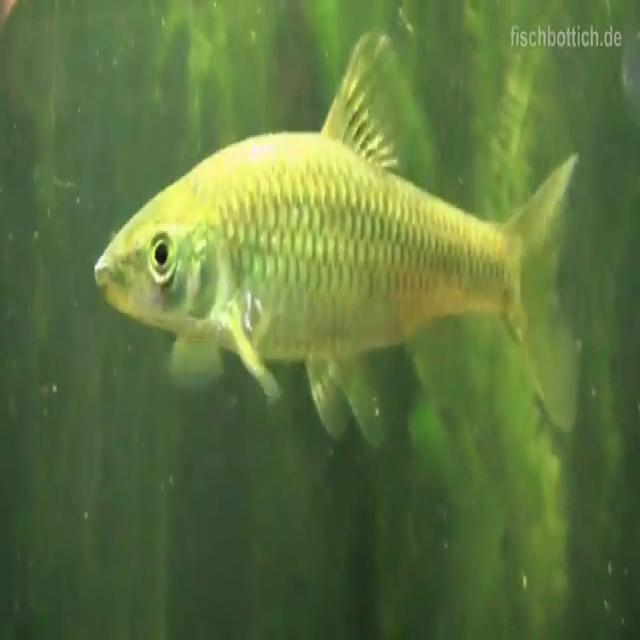Cakil Baligi: (93, 24, 585, 447)
